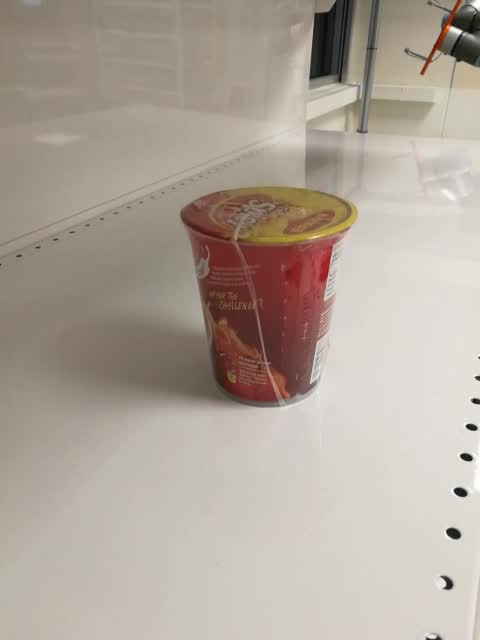maggi: (178, 185, 360, 408)
